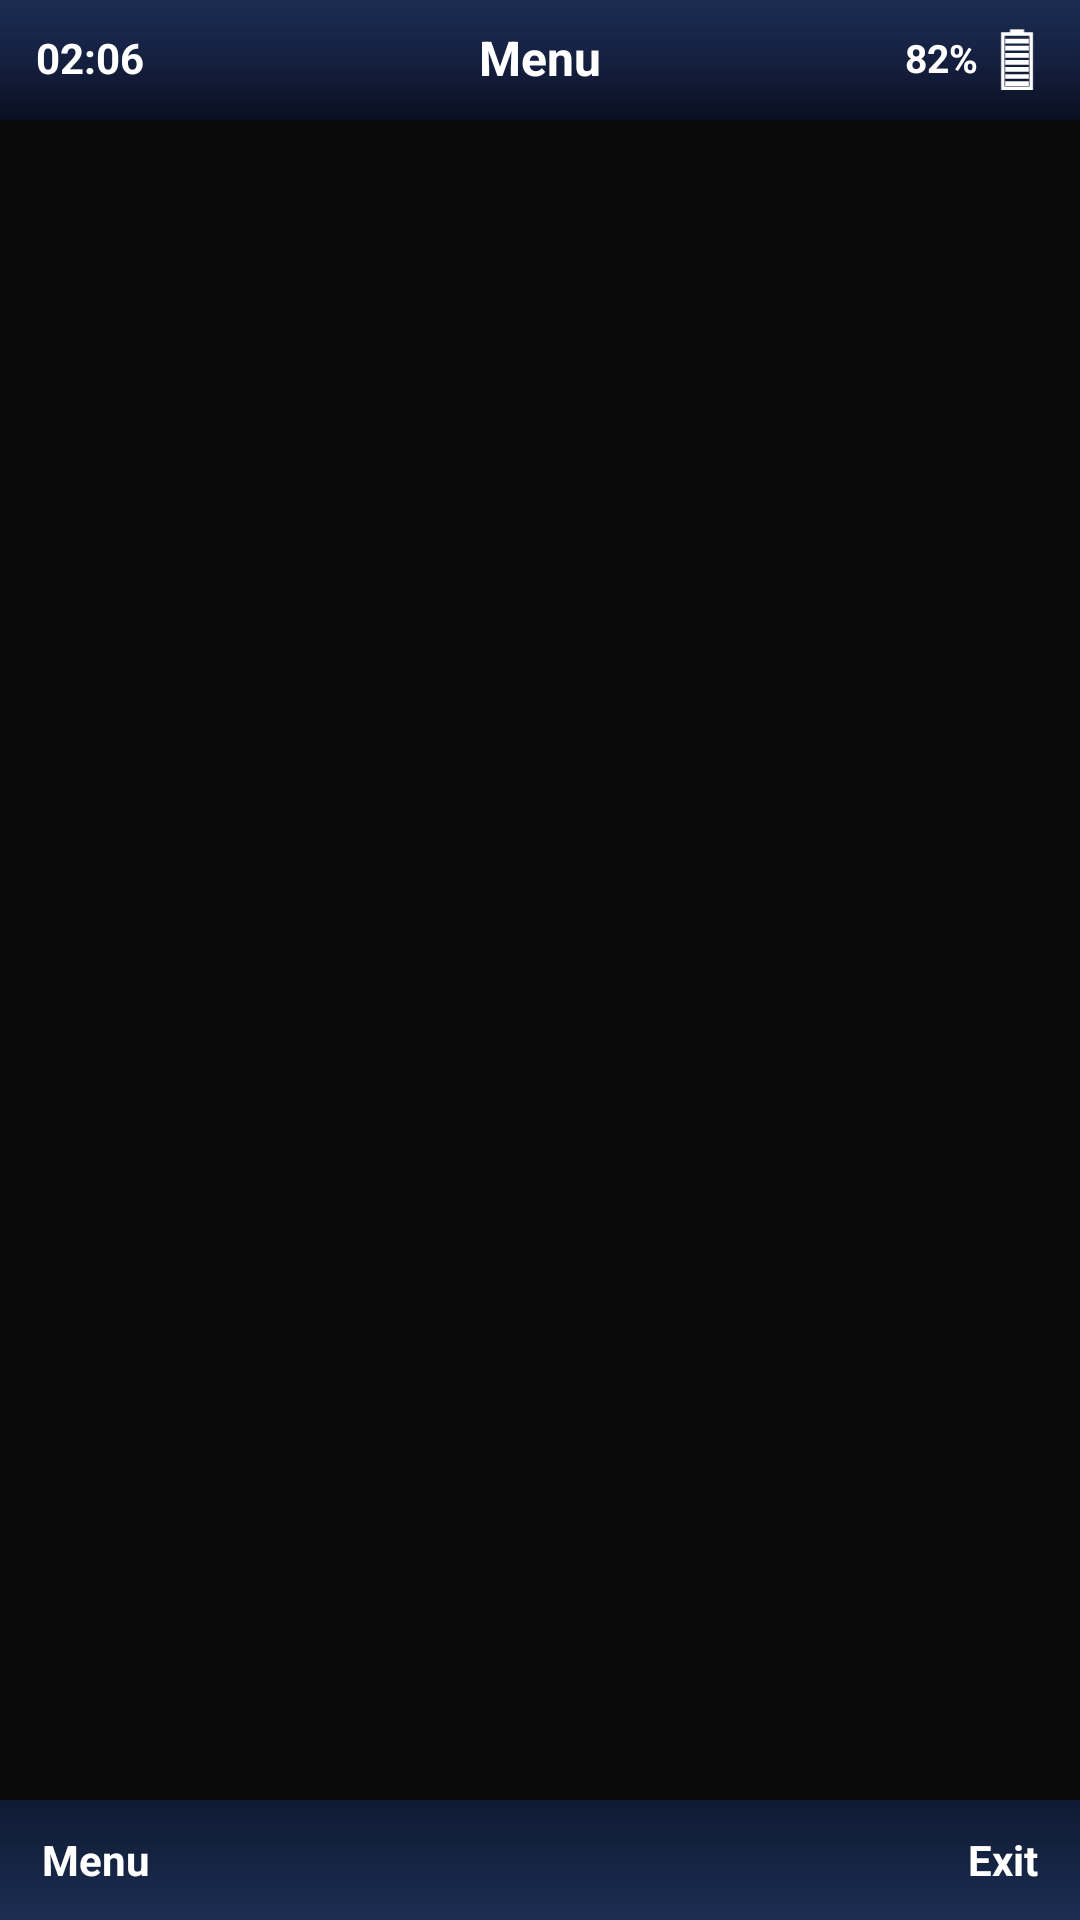

Point at icon controls on the screen. Image size 1080 × 1920, points as (x,y).
battery bars: (1017,58)
